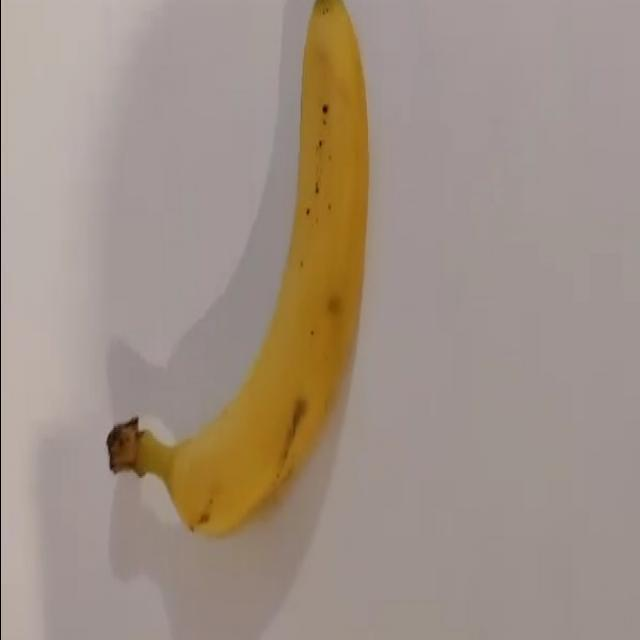Banana: (105, 0, 370, 538)
